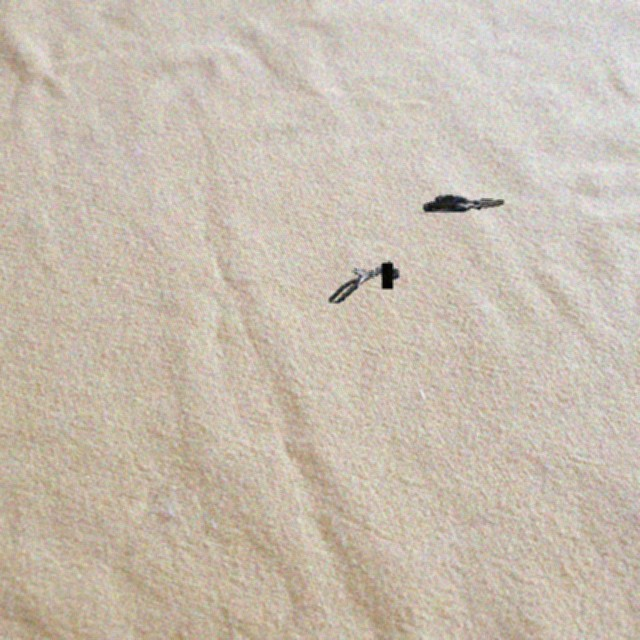scissors: (329, 261, 399, 303), (423, 195, 504, 212)
